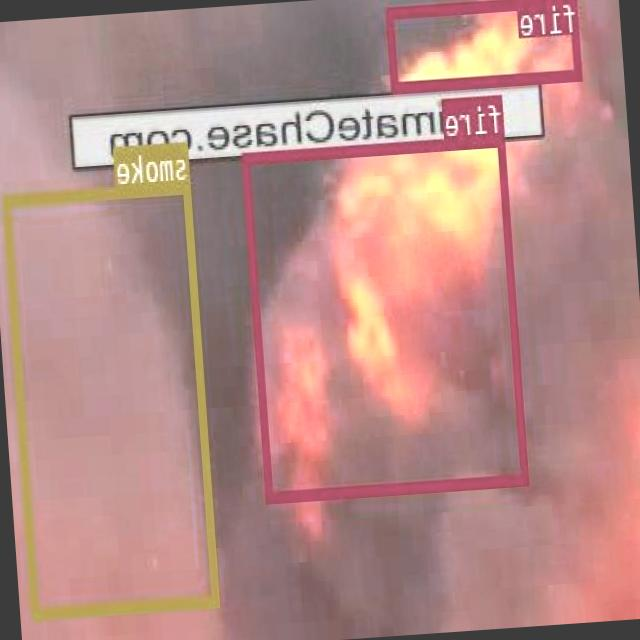fire: (242, 133, 530, 500), (387, 0, 583, 90)
smoke: (4, 179, 221, 616)
